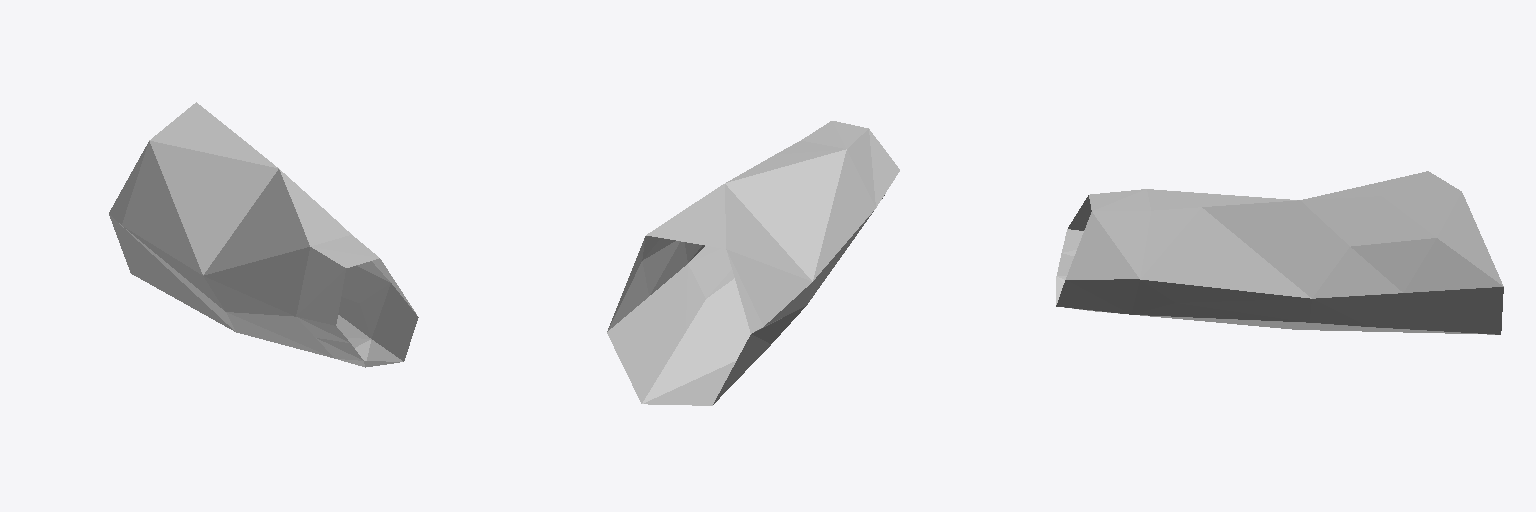
Rendered from leg-right.obj.
The picture shows the model from 3 angles: view 1: azimuth 30°, elevation 25°; view 2: azimuth 150°, elevation 25°; view 3: azimuth 270°, elevation 25°; orthographic projection.
Visible parts, largest first — view 1: leg_right.001_Superhot_Enemy_Stl.032; view 2: leg_right.001_Superhot_Enemy_Stl.032; view 3: leg_right.001_Superhot_Enemy_Stl.032.
Part boxes in pixels (x1,y1,x2,y2): leg_right.001_Superhot_Enemy_Stl.032: (109, 102, 418, 367); leg_right.001_Superhot_Enemy_Stl.032: (607, 121, 899, 405); leg_right.001_Superhot_Enemy_Stl.032: (1056, 171, 1503, 334).
Bounding box in the file's own units: 15.09 × 17.62 × 44.9.